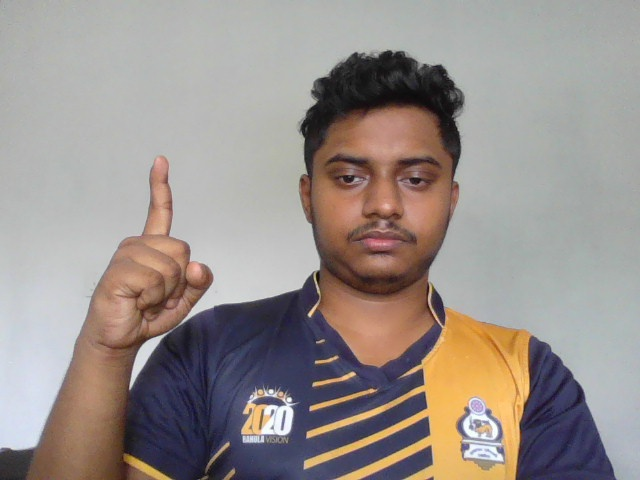Me: (85, 156, 216, 354)
